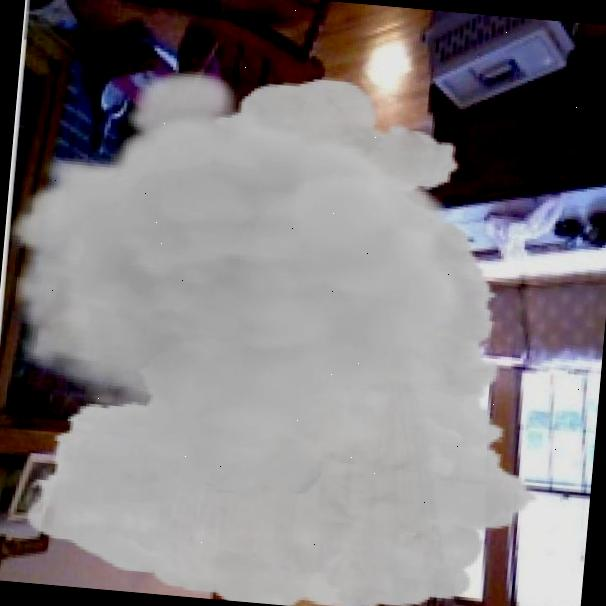smoke: (0, 51, 575, 606)
